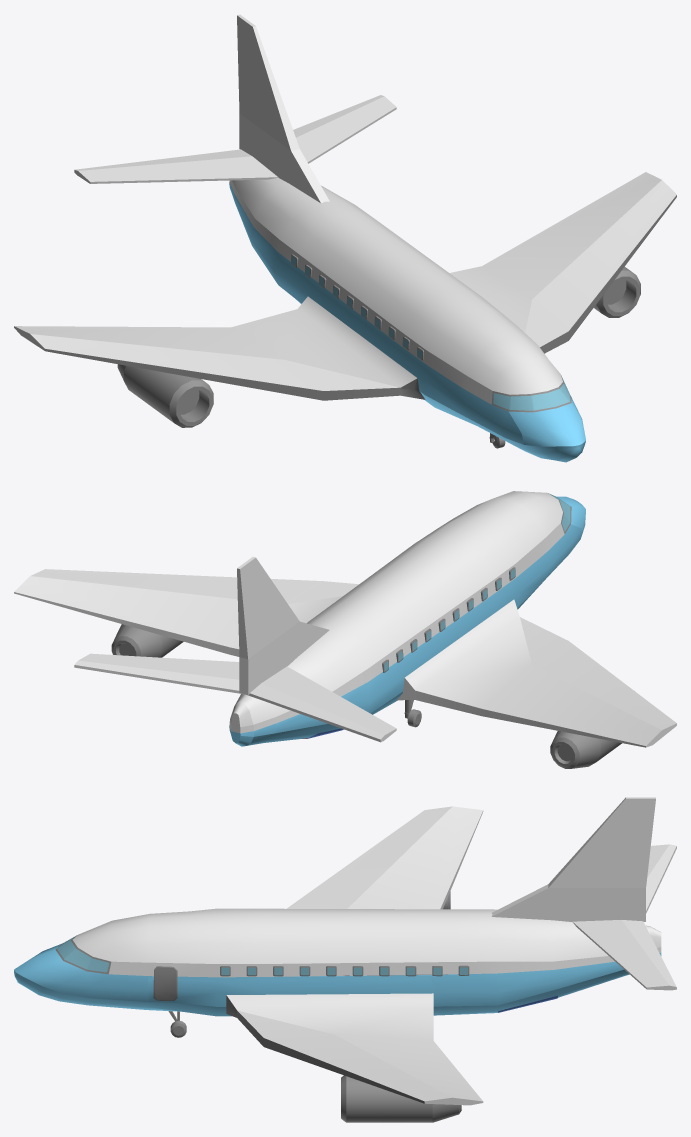
Rendered from AIR294-PLANE.fbx.
3 renders of one model, top to bottom at view 1: azimuth 30°, elevation 25°; view 2: azimuth 150°, elevation 25°; view 3: azimuth 270°, elevation 25°, orthographic. The views are drawn at different scales.
Visible parts, largest first — view 1: TAVAN, SAG_KANAT, SOL_KANAT, YAN_MAVI, Body; view 2: TAVAN, SAG_KANAT, SOL_KANAT, YAN_MAVI, Body; view 3: TAVAN, SOL_KANAT, Body, SAG_KANAT, KAPI.
Boxes of the visible parts, box(x1,y1,x2,y2) form: TAVAN: box(74, 14, 571, 412); SAG_KANAT: box(14, 296, 425, 427); SOL_KANAT: box(449, 172, 676, 353); YAN_MAVI: box(234, 195, 523, 444); Body: box(229, 182, 585, 462); TAVAN: box(74, 491, 571, 742); SAG_KANAT: box(397, 599, 676, 768); SOL_KANAT: box(14, 569, 358, 657); YAN_MAVI: box(275, 524, 581, 733); Body: box(229, 496, 585, 746); TAVAN: box(55, 797, 676, 990); SOL_KANAT: box(226, 993, 483, 1122); Body: box(14, 943, 661, 1037); SAG_KANAT: box(286, 806, 483, 909); KAPI: box(153, 966, 177, 1000).
Size of the model in its own units: 9304 by 3507 by 8950.
